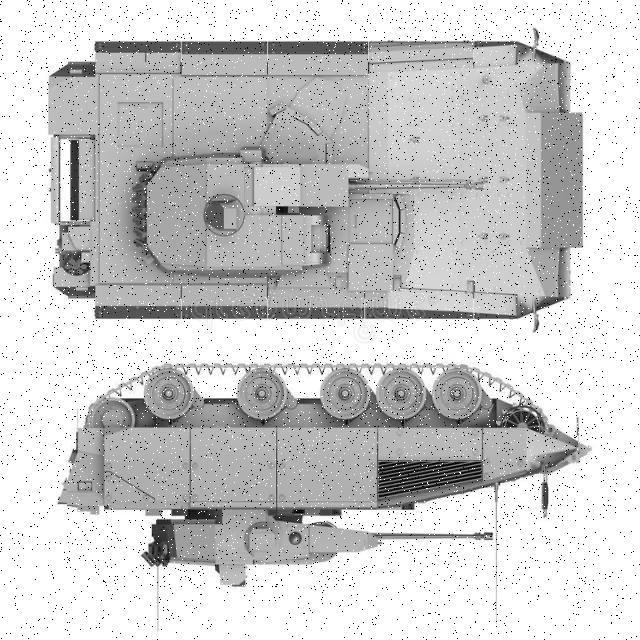MIL_MBT: (47, 9, 593, 327), (67, 347, 588, 589)
